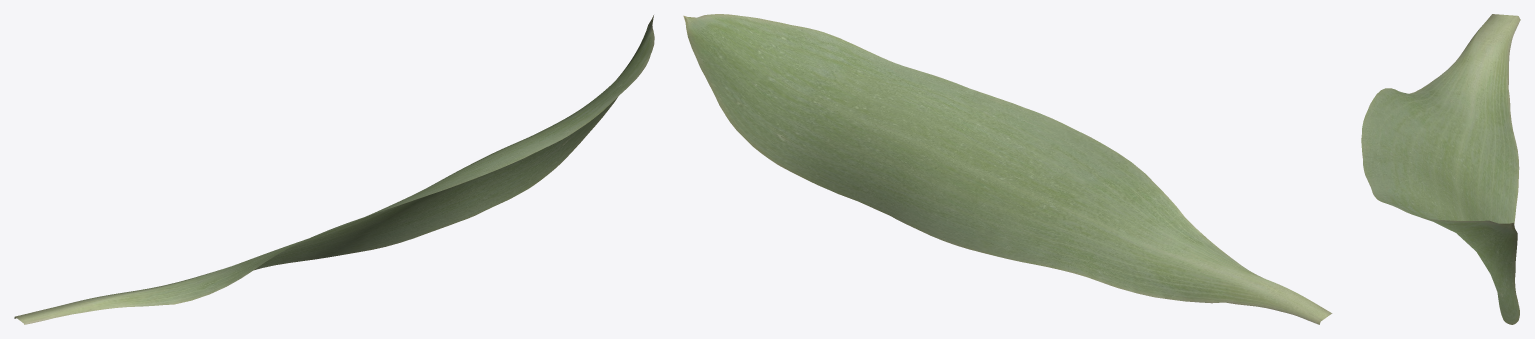
Rendered from TulipLeaf001.obj.
The picture shows the model from 3 angles, left to right: view 1: azimuth 30°, elevation 25°; view 2: azimuth 150°, elevation 25°; view 3: azimuth 270°, elevation 25°; orthographic projection. The views are drawn at different scales.
Visible parts, largest first — view 1: TulipLeaf001; view 2: TulipLeaf001; view 3: TulipLeaf001.
Boxes of the visible parts, x1,y1,x2,y2 form: TulipLeaf001: (14,15,654,324); TulipLeaf001: (683,14,1332,324); TulipLeaf001: (1361,14,1520,324).
Size of the model in its own units: 0.2634 by 0.0653 by 0.0448.
Materials: 1 (1 with a texture image).
